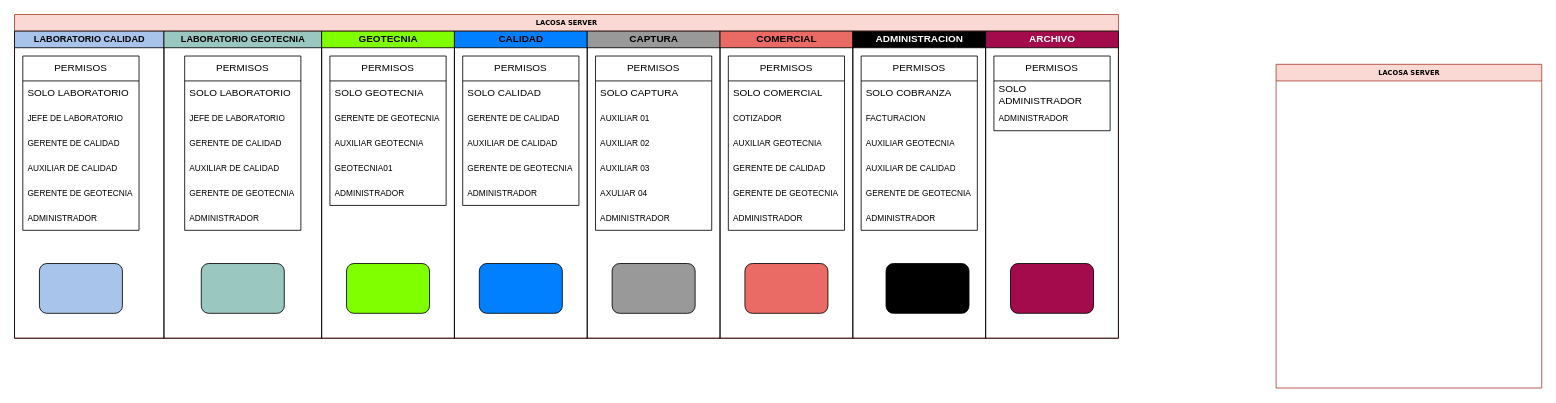
Image size: 1556x403. Some labels were removed from this diagram. Each missing label, with the centre of its shape:
1.LC: (80,288)
1.LG: (242,288)
2.DG: (388,288)
3.DC: (520,288)
4.DCP: (653,288)
5.CM: (786,288)
6.DF: (927,288)
7.OBRAS: (1052,288)
